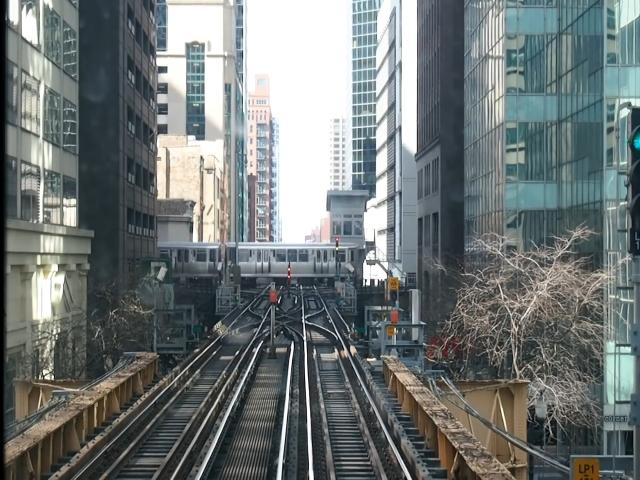signal light: (628, 111, 640, 261)
